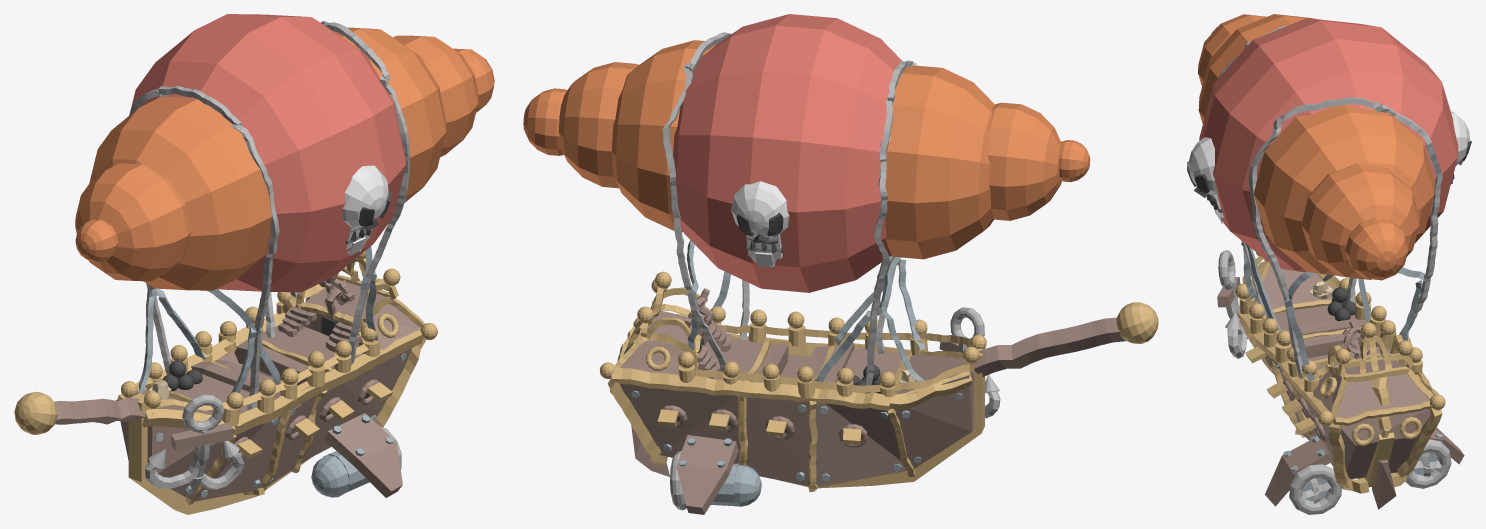
The model's file is pirateShipFlyingModel_alone_animation_v001.fbx.
3 renders of one model, left to right at view 1: azimuth 30°, elevation 25°; view 2: azimuth 150°, elevation 25°; view 3: azimuth 270°, elevation 25°, orthographic. The views are drawn at different scales.
Parts seen in each view (by area): view 1: pirateShipFlyingModel_alone_animation; view 2: pirateShipFlyingModel_alone_animation; view 3: pirateShipFlyingModel_alone_animation.
Boxes of the visible parts, x1,y1,x2,y2 form: pirateShipFlyingModel_alone_animation: (14, 14, 494, 514); pirateShipFlyingModel_alone_animation: (523, 14, 1158, 514); pirateShipFlyingModel_alone_animation: (1187, 14, 1471, 514).
Bounding box in the file's own units: 1.92 × 1.57 × 0.9295.
